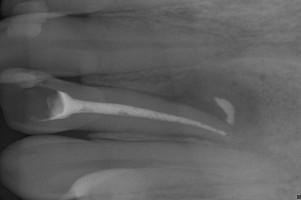Furcation Involvement: (154, 69, 261, 132)
